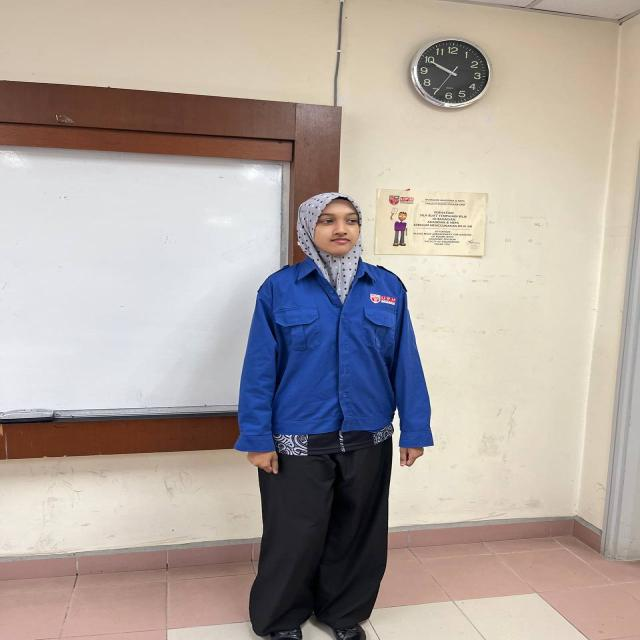person_with_labcoat: (235, 193, 433, 640)
